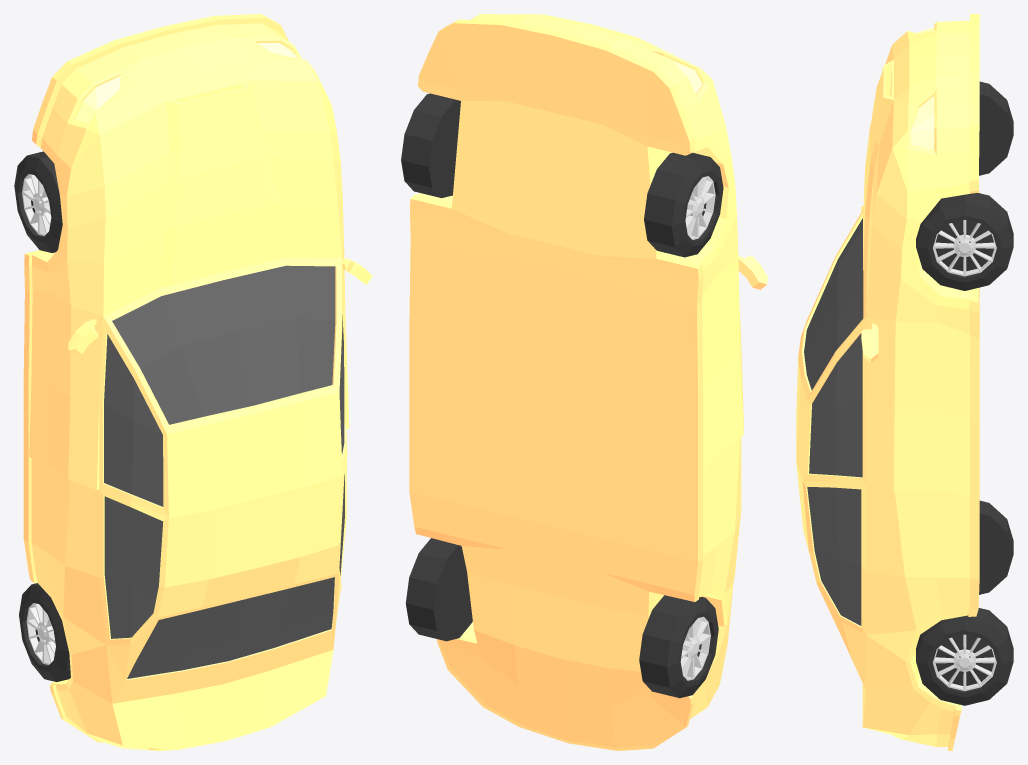
The model's file is car.gltf.
3 views of the same model, side by side, from view 1: azimuth 30°, elevation 25°; view 2: azimuth 150°, elevation 25°; view 3: azimuth 270°, elevation 25° (orthographic). The views are drawn at different scales.
Visible parts, largest first — view 1: SportsCar, SportsCar_FrontLeftWheel, SportsCar_BackWheels; view 2: SportsCar, SportsCar_BackWheels, SportsCar_FrontLeftWheel, SportsCar_FrontRightWheel; view 3: SportsCar, SportsCar_BackWheels, SportsCar_FrontRightWheel, SportsCar_FrontLeftWheel.
Part boxes in pixels (box(x1,y1,x2,y2)): SportsCar: box(23, 14, 372, 750); SportsCar_FrontLeftWheel: box(14, 151, 62, 252); SportsCar_BackWheels: box(19, 583, 70, 681); SportsCar: box(409, 14, 767, 750); SportsCar_BackWheels: box(405, 538, 718, 698); SportsCar_FrontLeftWheel: box(644, 152, 723, 257); SportsCar_FrontRightWheel: box(401, 93, 460, 198); SportsCar: box(796, 14, 979, 750); SportsCar_BackWheels: box(916, 500, 1013, 705); SportsCar_FrontRightWheel: box(916, 193, 1013, 290); SportsCar_FrontLeftWheel: box(979, 81, 1013, 175).
Size of the model in its own units: 180 by 397 by 116.
